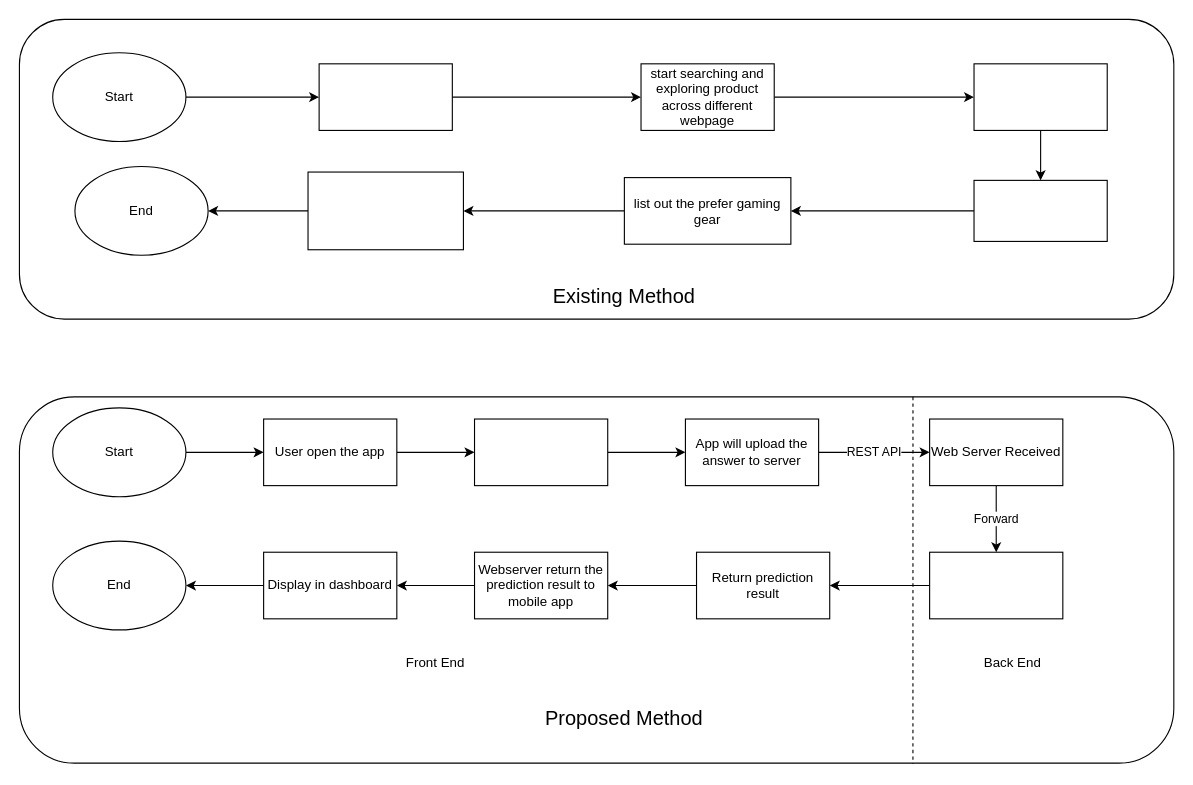
The diagram is 1193 pixels wide and 785 high, and some of its shapes have lost their labels. The shapes that lost their labels are listed below. From the top down, each one's box as (x1, y1, x2, y2) in pixels, then its label:
(318, 63, 452, 130): Study basic knowledge
(973, 63, 1107, 130): watch some review video
(307, 171, 463, 250): choose the most prefer and affordable gaming gear
(973, 179, 1107, 241): read the review carefully
(473, 418, 608, 486): User answer few question
(929, 551, 1063, 619): Machine Learning API
